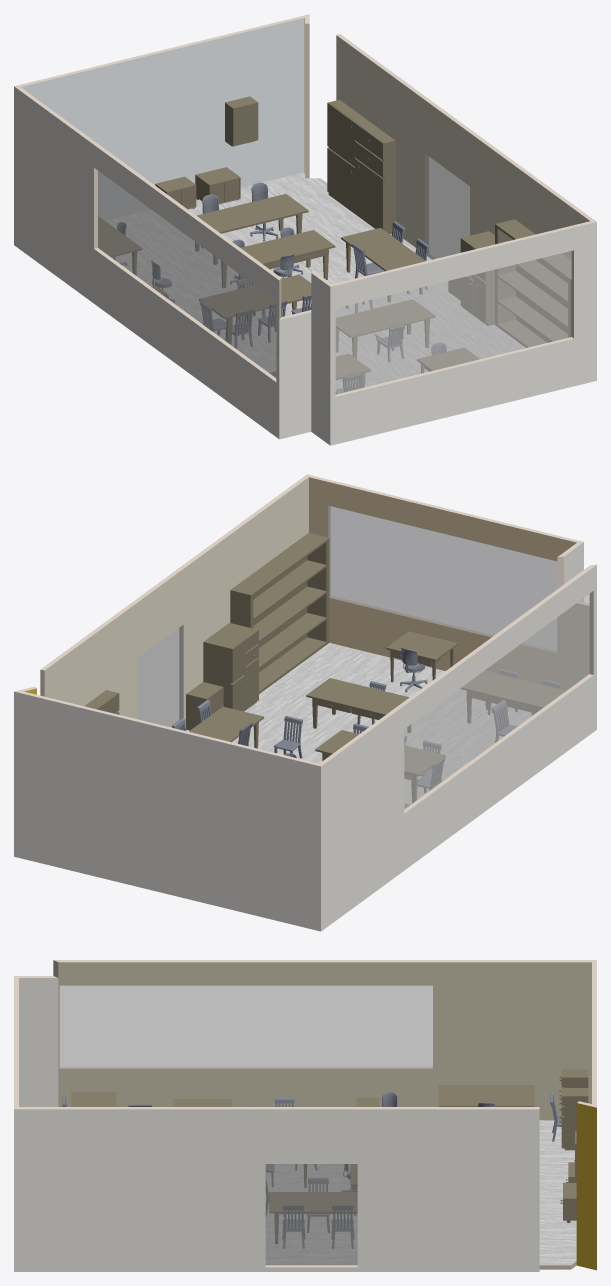
Rendered from Co-Working space.fbx.
3 renders of one model, top to bottom at view 1: azimuth 30°, elevation 25°; view 2: azimuth 150°, elevation 25°; view 3: azimuth 270°, elevation 25°, orthographic. The views are drawn at different scales.
Visible parts, largest first — view 1: window_1 (×2), wall_2 (×2), wall_0 (×3), window_0 (×2), wall_6 (×3), floor_Dining Room_0, wall_1 (×2), door_0 (×2), storage1, storage0, wall_3, wall_5 (+13 smaller); view 2: wall_2 (×2), window_1 (×2), wall_0 (×3), window_0 (×2), wall_1 (×3), wall_6 (×3), floor_Dining Room_0, storage0, door_0 (×2), storage6, table6, table2 (+7 smaller); view 3: wall_1 (×2), window_0 (×2), wall_0 (×3), door_0 (×2), floor_Dining Room_0, wall_5, wall_4, table3, table1, storage10, table2, wall_2 (+6 smaller).
Part boxes in pixels (x1=…): window_1 (×2): x1=336, y1=251, x2=571, y2=393; wall_2 (×2): x1=14, y1=14, x2=308, y2=220; wall_0 (×3): x1=14, y1=86, x2=281, y2=438; window_0 (×2): x1=98, y1=171, x2=275, y2=377; wall_6 (×3): x1=330, y1=221, x2=596, y2=445; floor_Dining Room_0: x1=106, y1=172, x2=525, y2=389; wall_1 (×2): x1=336, y1=34, x2=596, y2=259; door_0 (×2): x1=425, y1=154, x2=469, y2=259; storage1: x1=327, y1=99, x2=395, y2=234; storage0: x1=495, y1=219, x2=571, y2=347; wall_3: x1=279, y1=312, x2=311, y2=439; wall_5: x1=311, y1=273, x2=330, y2=445; wall_2 (×2): x1=14, y1=691, x2=320, y2=931; window_1 (×2): x1=328, y1=505, x2=556, y2=636; wall_0 (×3): x1=319, y1=564, x2=596, y2=931; window_0 (×2): x1=404, y1=594, x2=589, y2=808; wall_1 (×3): x1=40, y1=474, x2=308, y2=727; wall_6 (×3): x1=307, y1=474, x2=583, y2=684; floor_Dining Room_0: x1=186, y1=643, x2=531, y2=804; storage0: x1=230, y1=533, x2=329, y2=693; door_0 (×2): x1=137, y1=625, x2=182, y2=727; storage6: x1=203, y1=623, x2=258, y2=711; table6: x1=306, y1=678, x2=411, y2=732; table2: x1=461, y1=671, x2=565, y2=723; wall_1 (×2): x1=14, y1=1107, x2=539, y2=1271; window_0 (×2): x1=60, y1=986, x2=432, y2=1068; wall_0 (×3): x1=53, y1=960, x2=596, y2=1120; door_0 (×2): x1=266, y1=1164, x2=357, y2=1264; floor_Dining Room_0: x1=266, y1=1120, x2=576, y2=1265; wall_5: x1=19, y1=978, x2=58, y2=1106; wall_4: x1=576, y1=1103, x2=596, y2=1270; table3: x1=438, y1=1085, x2=534, y2=1106; table1: x1=269, y1=1192, x2=357, y2=1243; storage10: x1=559, y1=1088, x2=588, y2=1150; table2: x1=71, y1=1091, x2=116, y2=1106; wall_2: x1=592, y1=960, x2=596, y2=1107.
Size of the model in its own units: 7.2 by 3.67 by 11.91.
59 materials, 1 textured.
